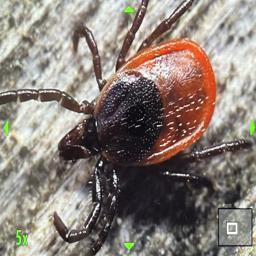Ixodes scapularis: (16, 6, 244, 253)
